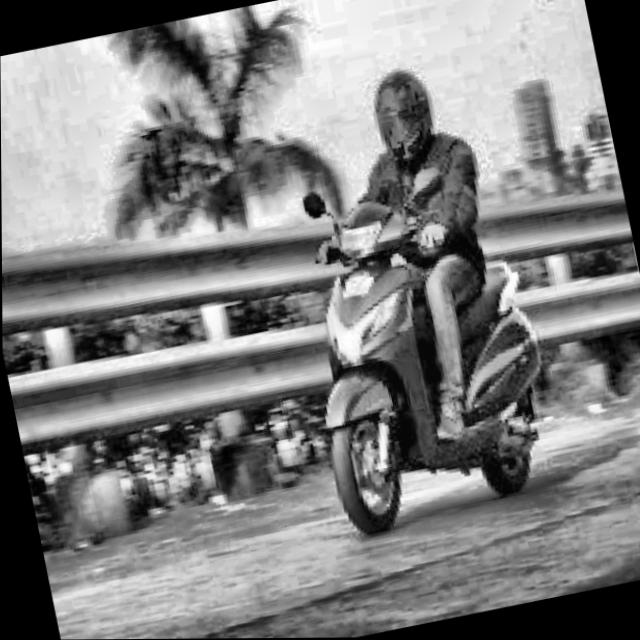motorcycle: (270, 144, 566, 546)
